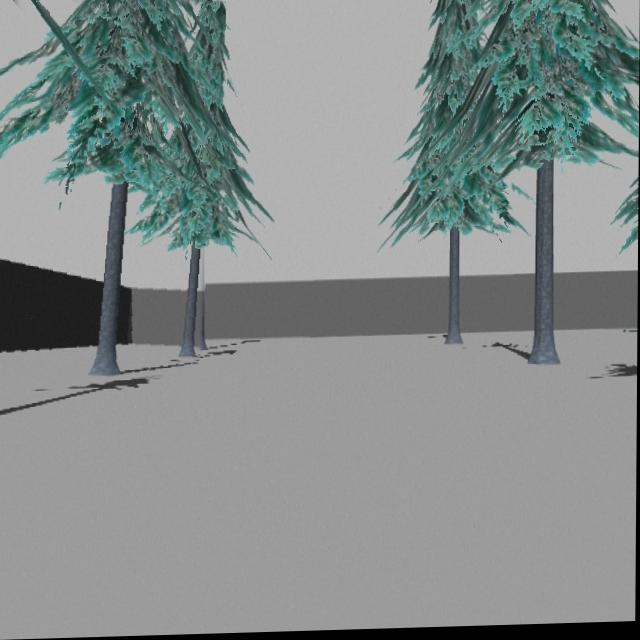tree: (1, 0, 217, 378), (455, 0, 640, 369)
